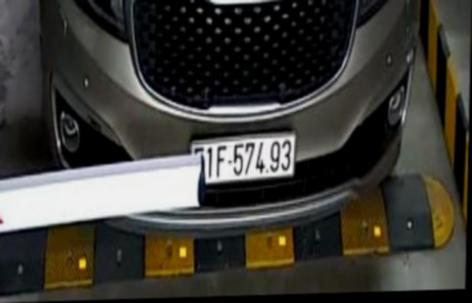License_Plate: (187, 134, 299, 182)
